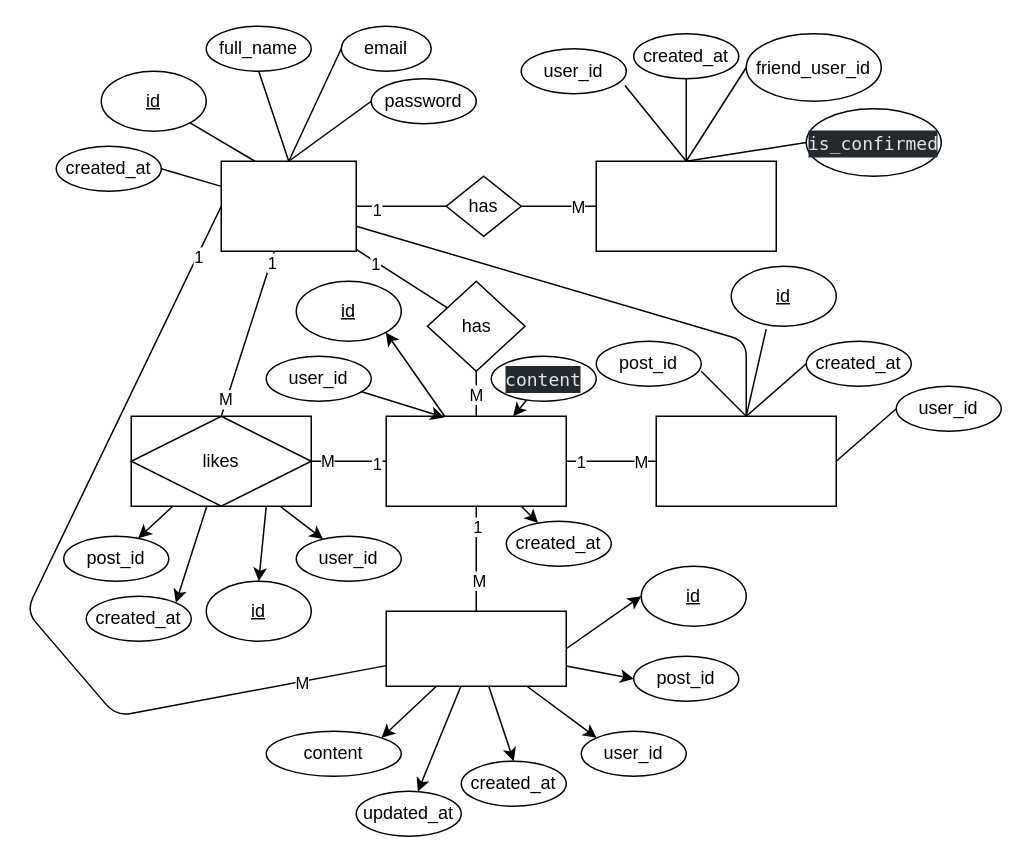
Image size: 1028x863. Some labels were removed from this diagram. The shapes that lost their labels are listed below. From the top down, each one's box as (x1, y1, x2, y2) in pixels, then its label:
(220, 160, 356, 251): users
(595, 160, 776, 251): friends
(385, 415, 566, 506): posts
(655, 415, 836, 506): shares
(385, 610, 566, 686): coments
